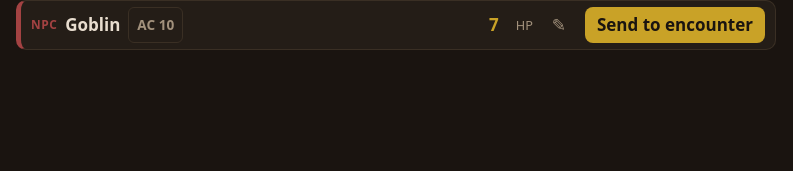
Scenario: CatalogRow sending › hides the send form after sending
Click the button "Send to encounter": (675, 25) [585,7,765,43]
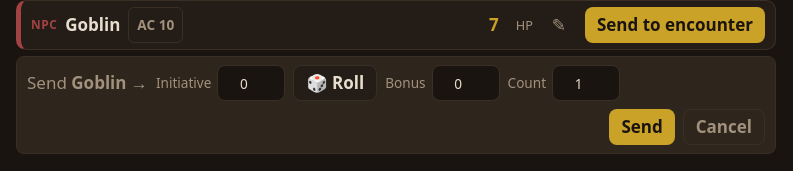
Click the button "Send": (642, 127) [609,109,675,145]
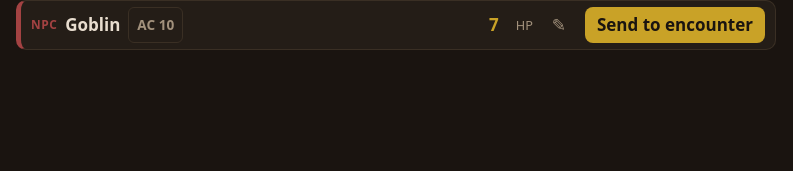
Check: the text labelled "Initiative" is gone
